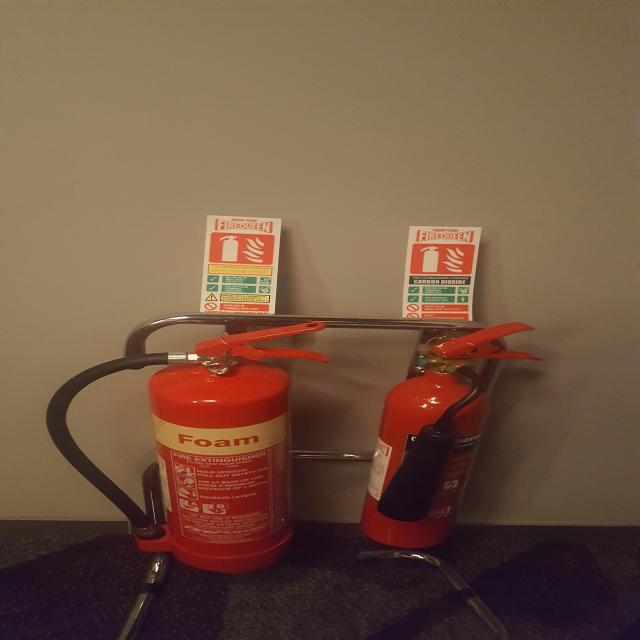fire_extinguisher: (39, 319, 338, 577), (350, 314, 553, 550)
